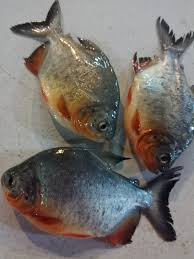Ikan Bawal: (2, 148, 185, 252), (12, 9, 129, 147), (119, 20, 194, 178)
